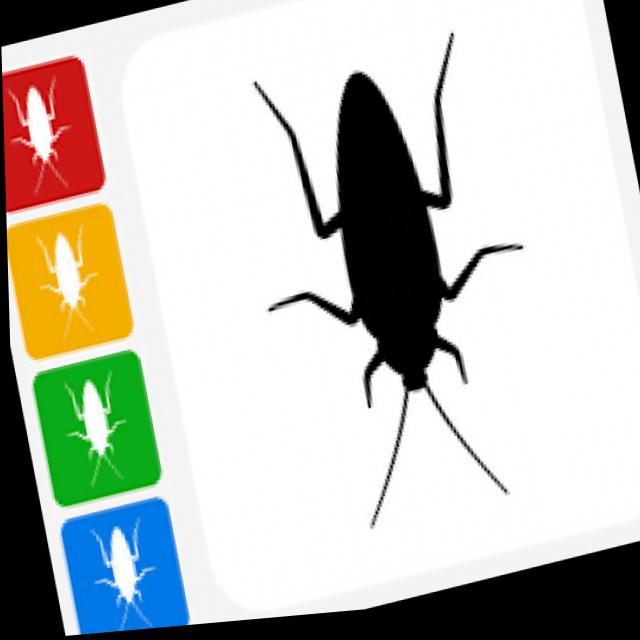Cockroach: (232, 0, 544, 550)
